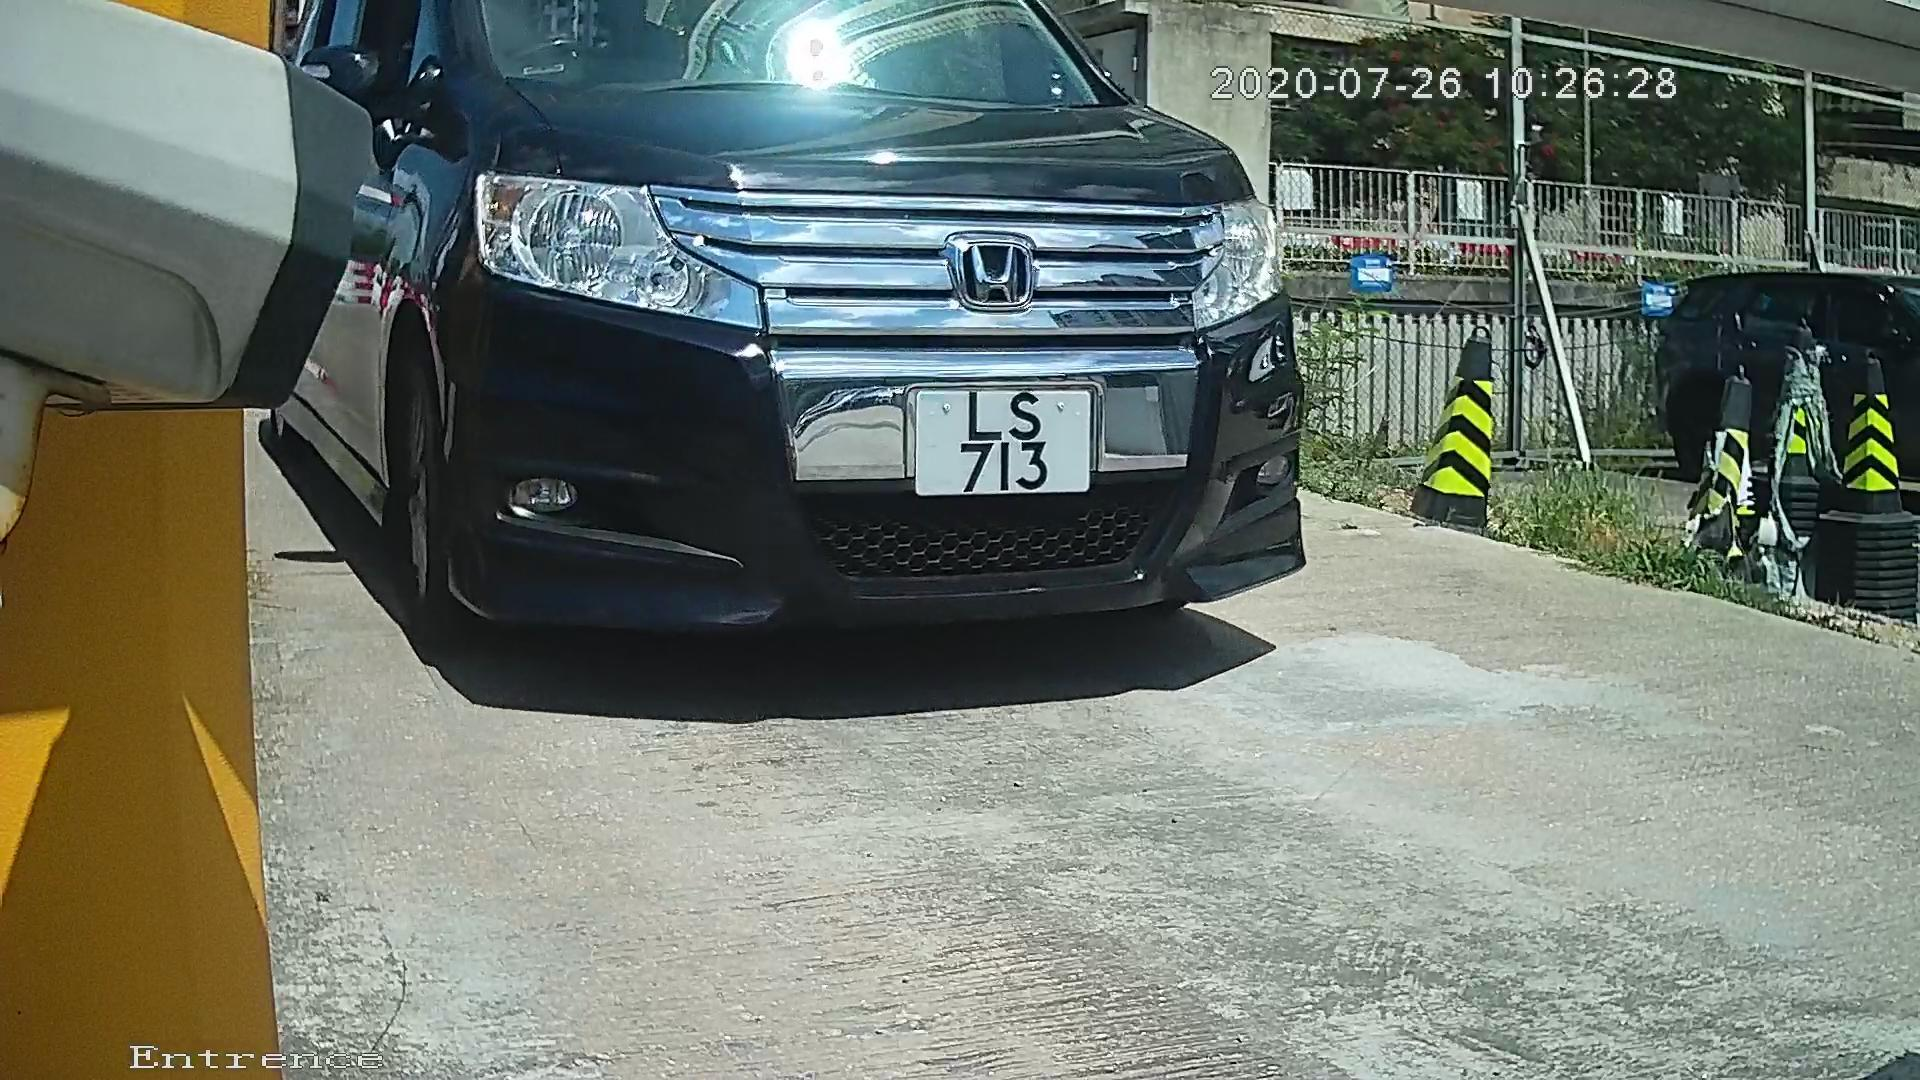privatecar: (208, 1, 1354, 715)
